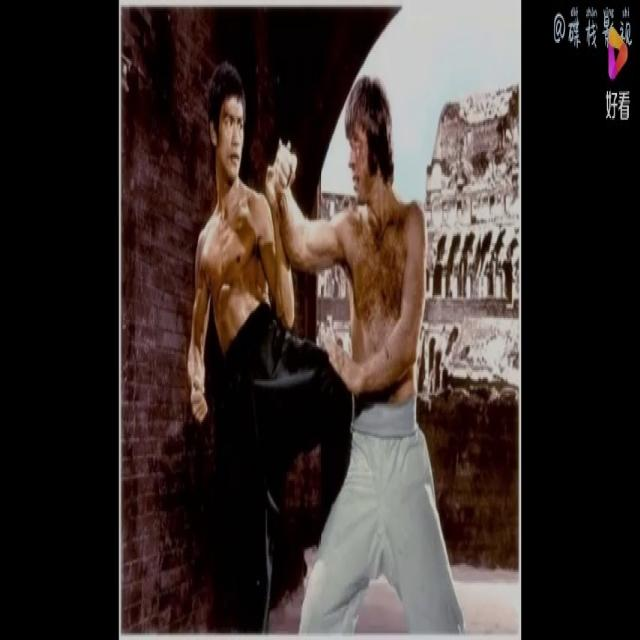fight: (178, 50, 461, 638)
